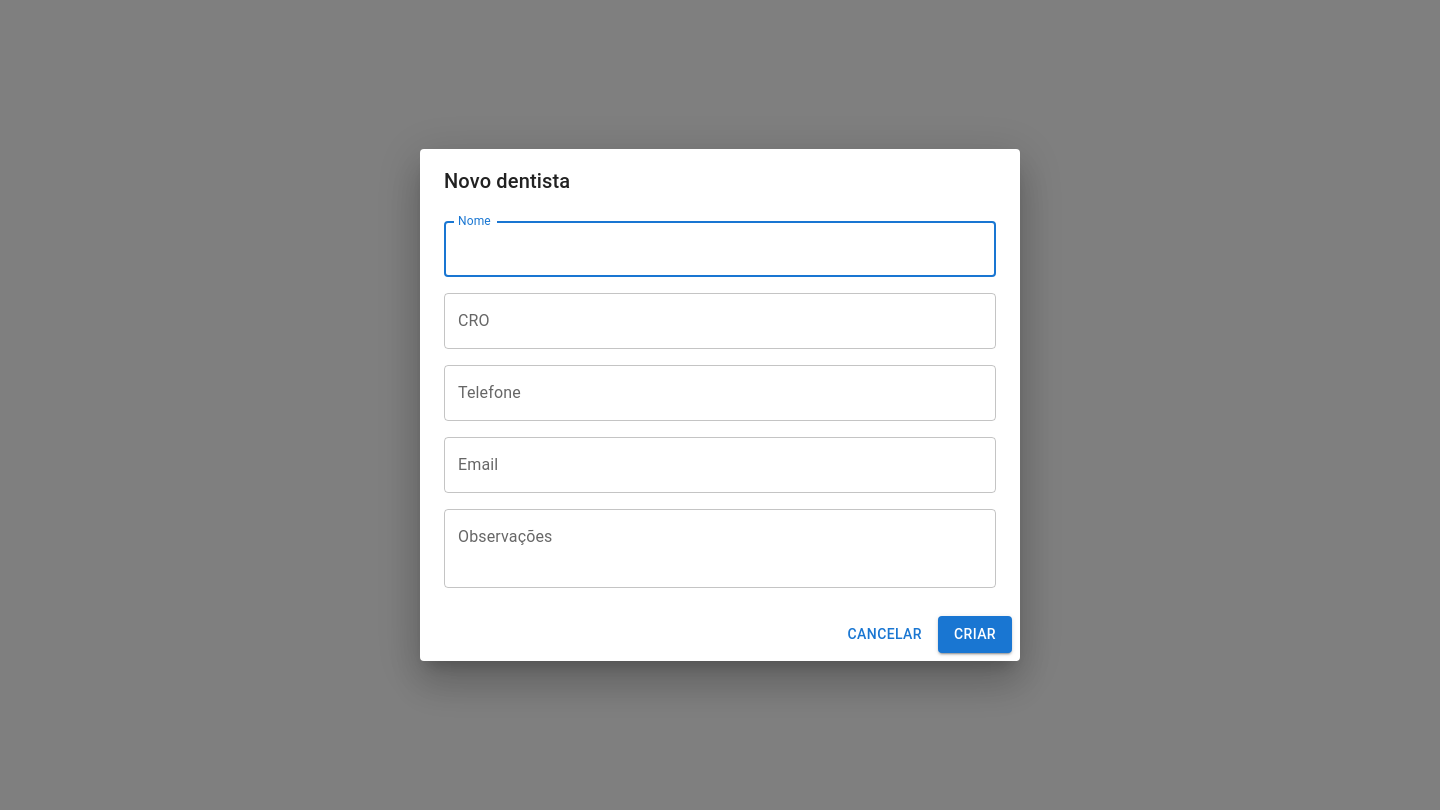
Test: DentistFormDialog (create) › bloqueia submit com email mal formado
Type "Dr. Silva" into the field labelled "Nome" at {"x": 720, "y": 249}, box [444,221,996,277]
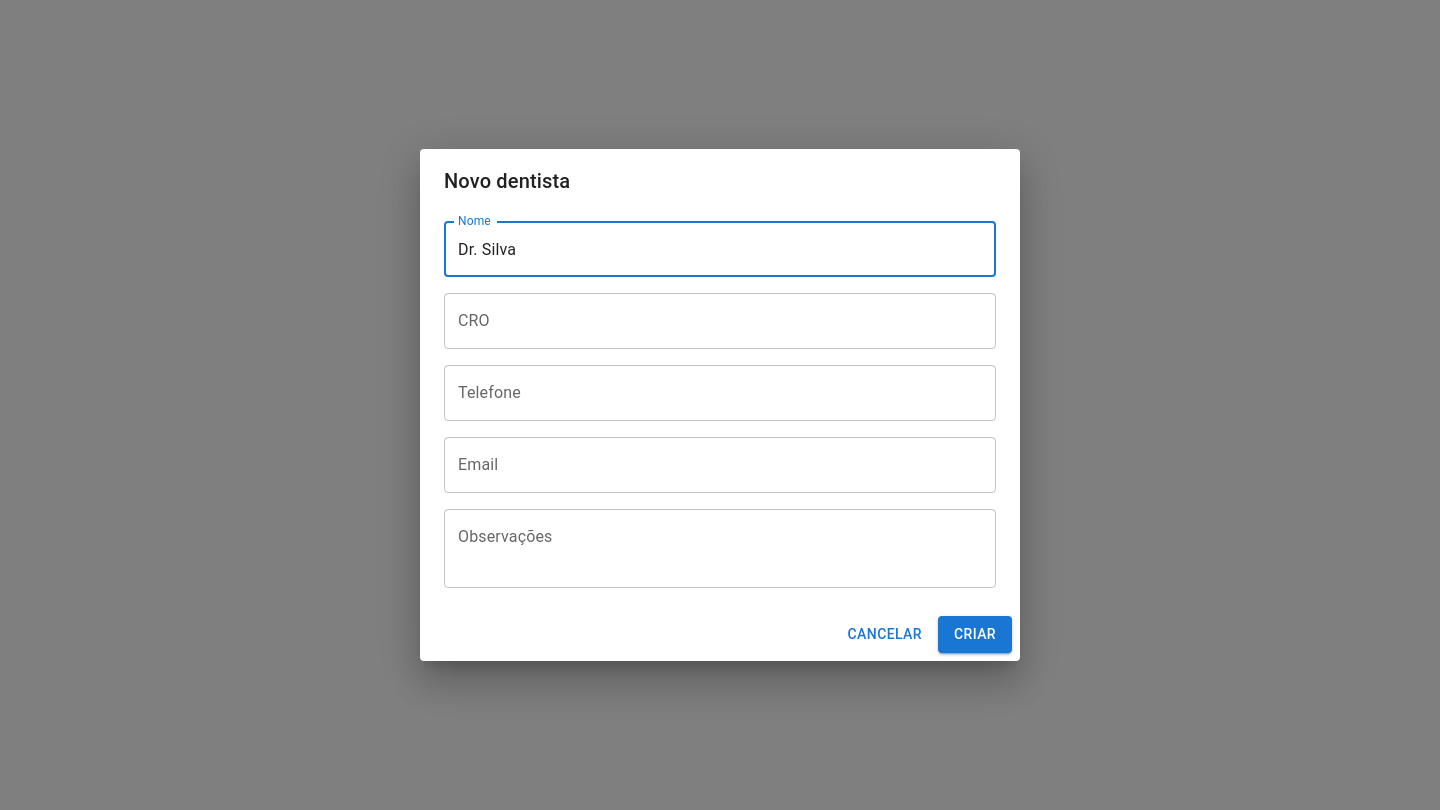
Type "not-an-email" into the field labelled "Email" at {"x": 720, "y": 465}, box [444,437,996,493]
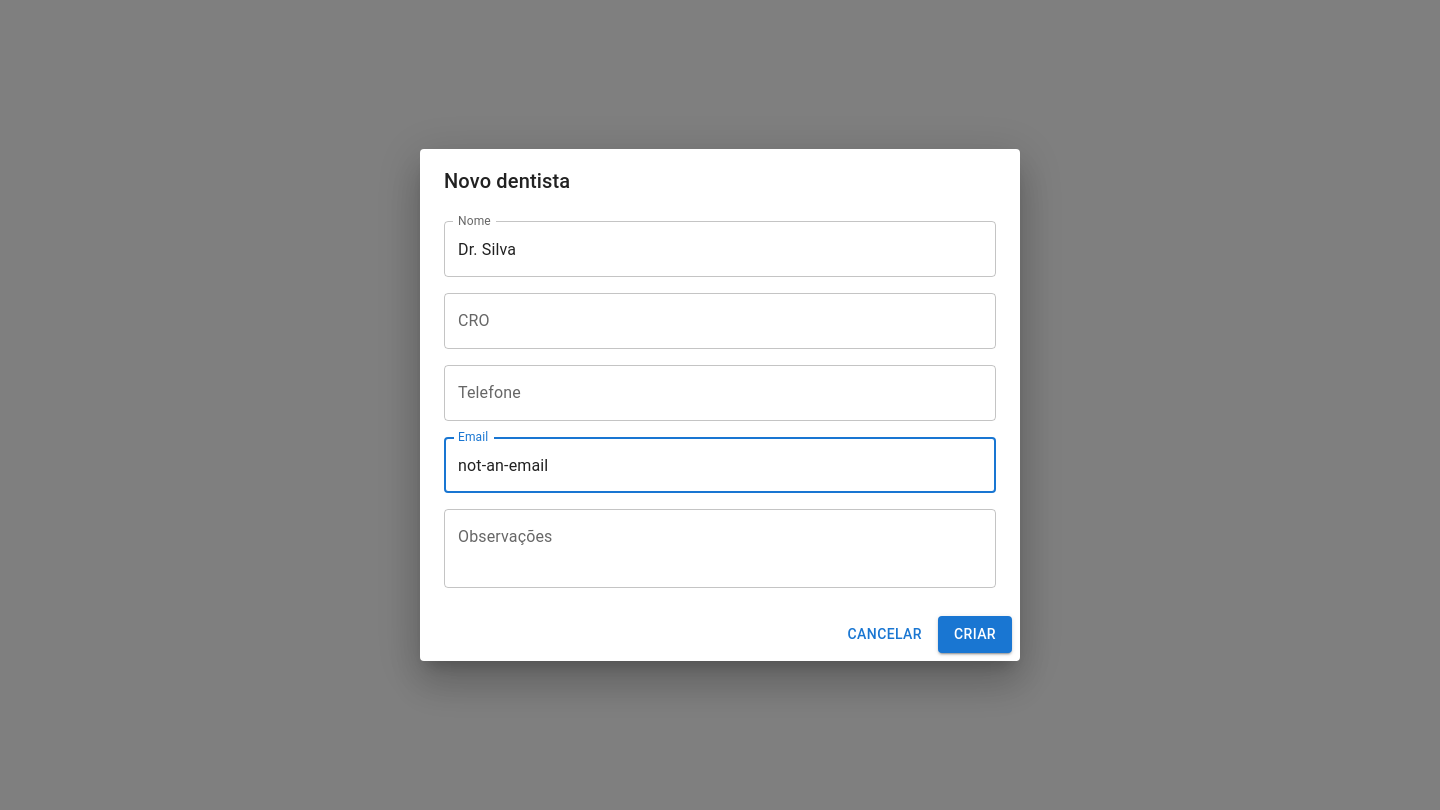
Click the button "Criar" at {"x": 975, "y": 635}, box [938,616,1012,653]
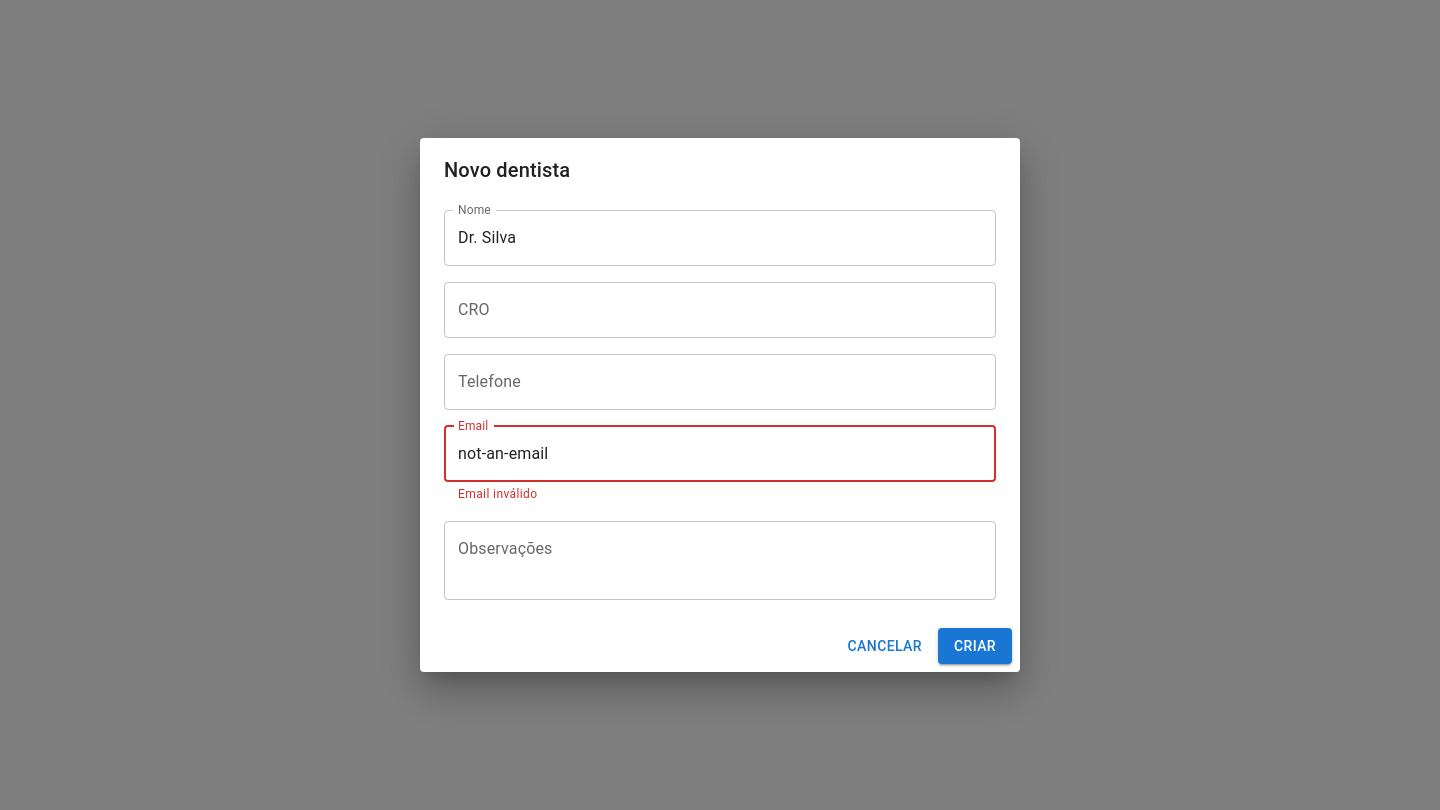
Expected: the text "Email inválido" is shown, [458,487,538,501]
